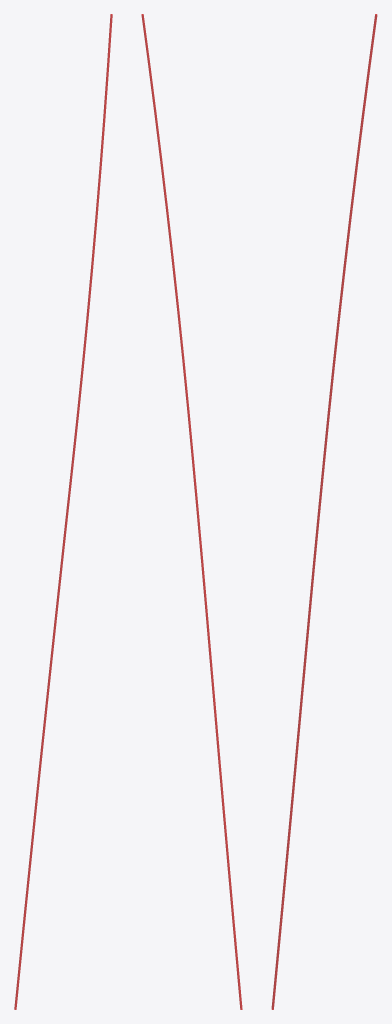
Rendered from Event_402970704_muon_0.fbx.
3 views of the same model, side by side, from view 1: azimuth 30°, elevation 25°; view 2: azimuth 150°, elevation 25°; view 3: azimuth 330°, elevation 25° (orthographic). The views are drawn at different scales.
Parts seen in each view (by area): view 1: Model; view 2: Model; view 3: Model.
Boxes of the visible parts, x1,y1,x2,y2 form: Model: (14,14,112,1009); Model: (141,14,242,1009); Model: (271,14,377,1009).
Bounding box in the file's own units: 1.99 × 18.61 × 0.2456.
